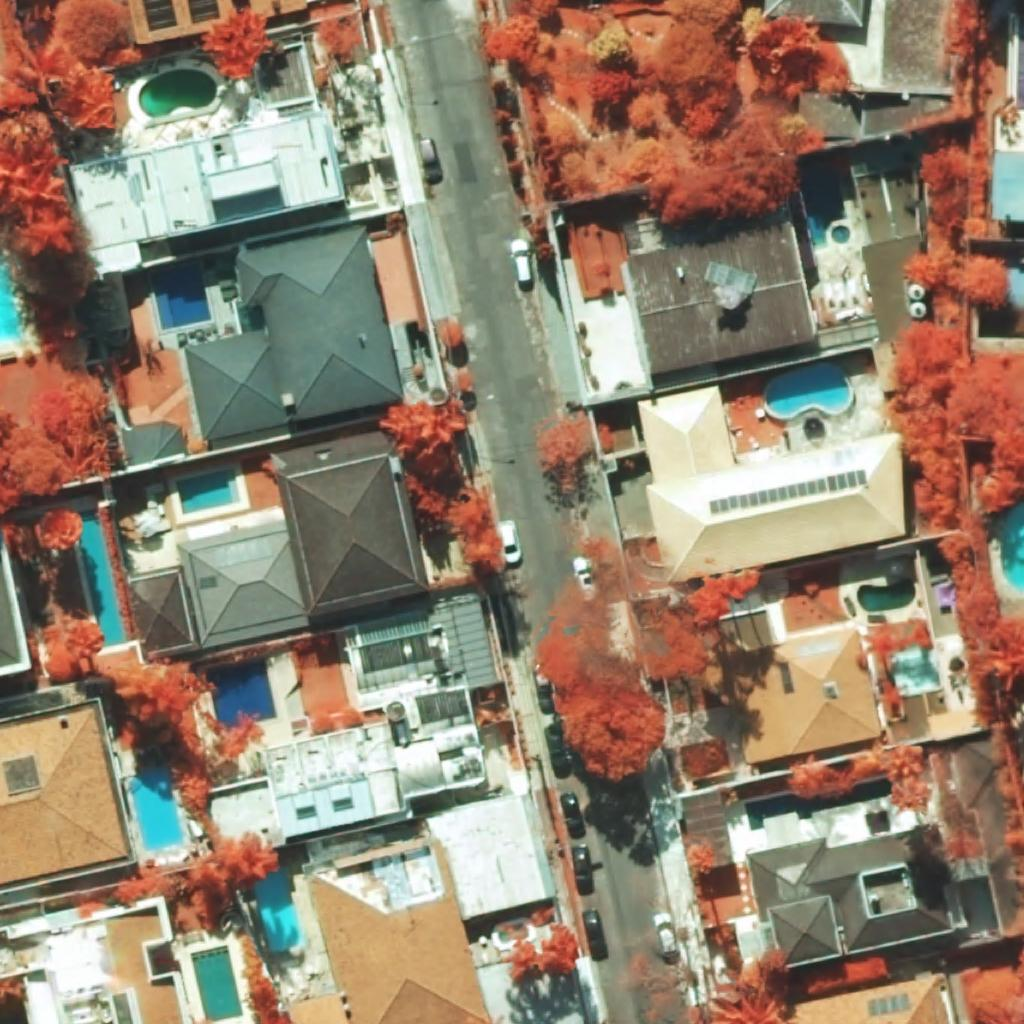pool: (745, 778, 892, 830), (79, 510, 127, 647), (208, 659, 276, 726), (129, 768, 185, 849), (151, 261, 212, 331), (254, 866, 304, 951), (190, 945, 243, 1022), (767, 366, 850, 415), (139, 69, 217, 118), (803, 181, 847, 247), (176, 469, 240, 514), (997, 502, 1023, 594), (857, 578, 915, 612), (0, 257, 22, 343)
